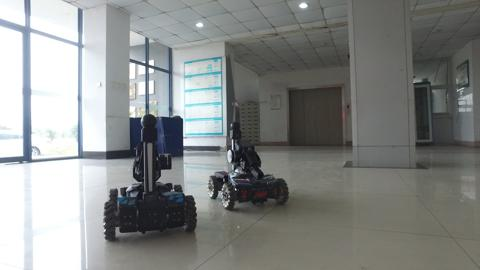chariot: (92, 110, 205, 241), (208, 115, 295, 214)
